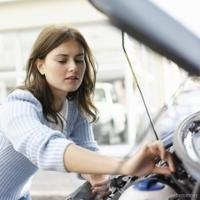person without safety: (3, 25, 101, 166)
